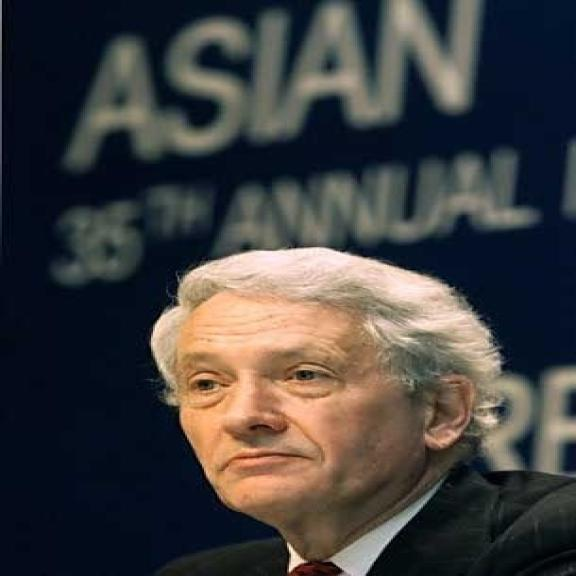face: (161, 274, 472, 525)
